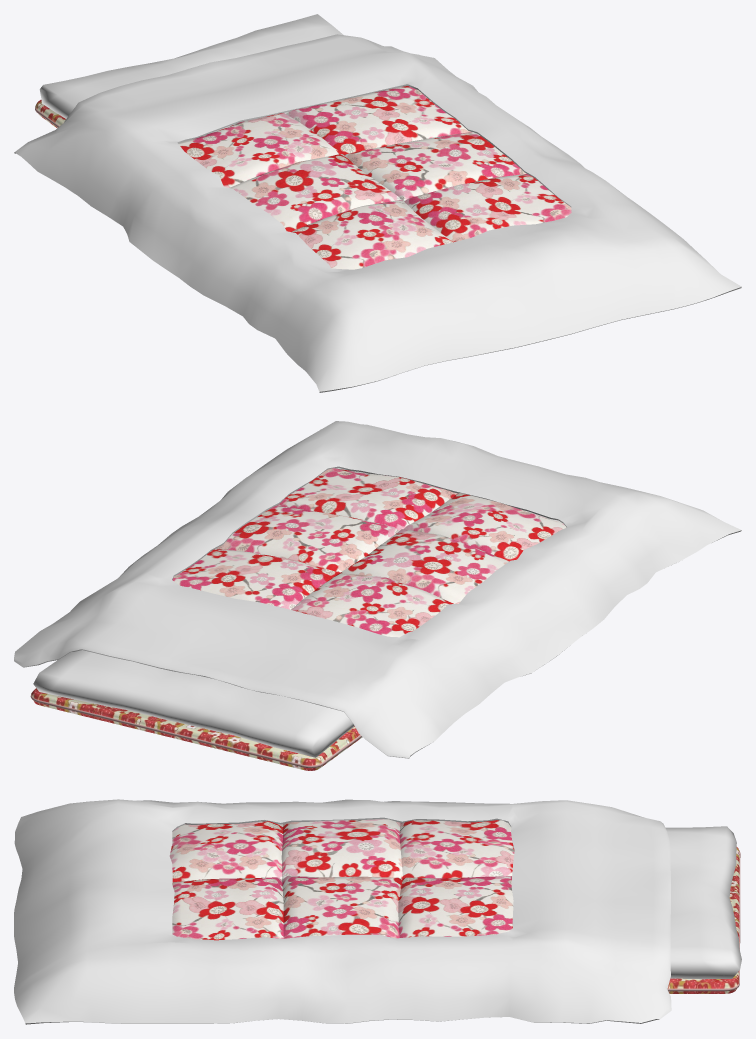
File: sweethome3d-scopia-futon.glb
3 views of the same model, one above another, from view 1: azimuth 30°, elevation 25°; view 2: azimuth 150°, elevation 25°; view 3: azimuth 270°, elevation 25° (orthographic).
Parts seen in each view (by area): view 1: cover_Plane.002, texturedCover_Plane.001, futon_Cube.002; view 2: cover_Plane.002, texturedCover_Plane.001, futon_Cube.002, base_Cube.001; view 3: cover_Plane.002, texturedCover_Plane.001, futon_Cube.002, base_Cube.001.
Boxes of the visible parts, box(x1,y1,x2,y2) form: cover_Plane.002: box(14, 34, 741, 392); texturedCover_Plane.001: box(178, 86, 571, 269); futon_Cube.002: box(39, 14, 343, 132); cover_Plane.002: box(14, 421, 741, 758); texturedCover_Plane.001: box(172, 468, 566, 637); futon_Cube.002: box(33, 468, 560, 757); base_Cube.001: box(30, 688, 362, 770); cover_Plane.002: box(14, 799, 671, 1024); texturedCover_Plane.001: box(169, 819, 514, 940); futon_Cube.002: box(665, 826, 741, 979); base_Cube.001: box(667, 847, 740, 993).
Bounding box in the file's own units: 142 × 18.16 × 211.
5 materials, 2 textured.
